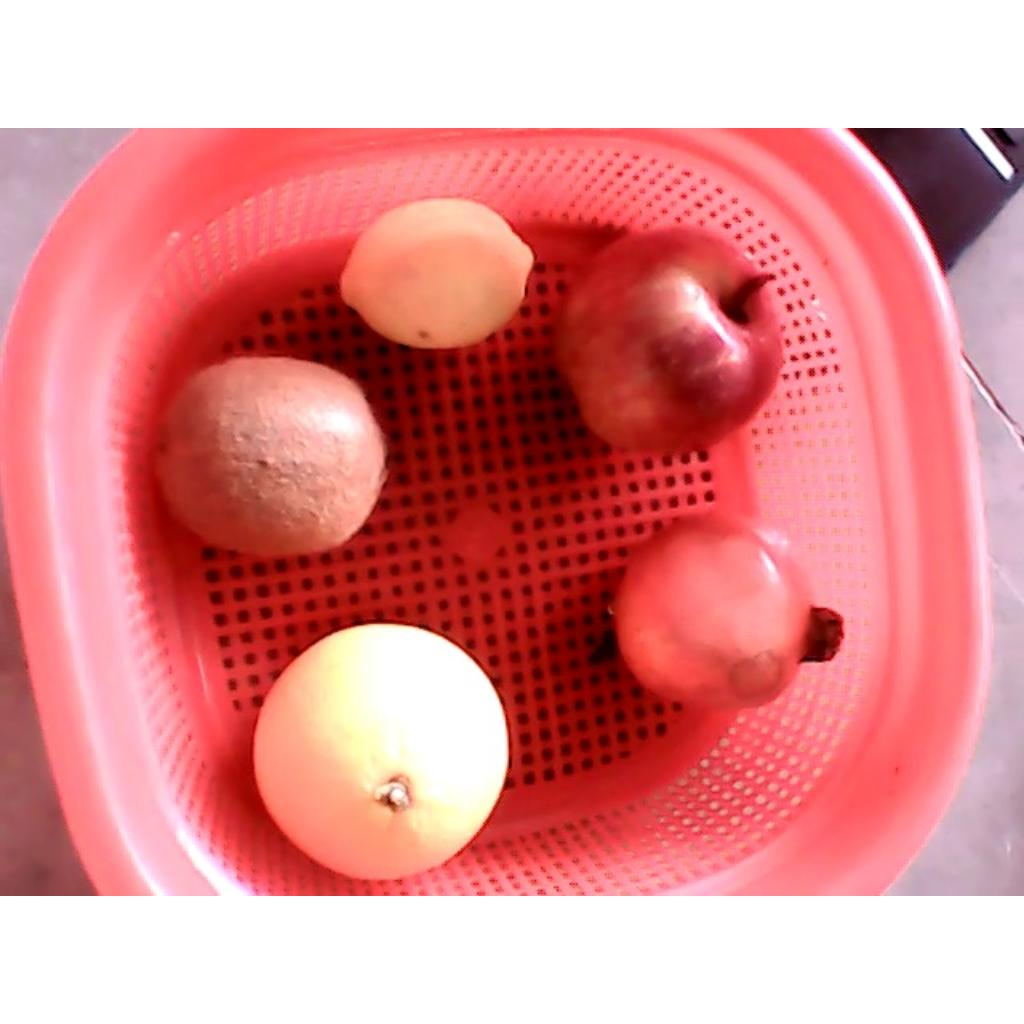apple: (549, 225, 786, 456)
kiwi: (149, 355, 389, 557)
lemon: (337, 198, 537, 349)
orange: (253, 625, 508, 881)
pomegranate: (609, 505, 845, 713)
